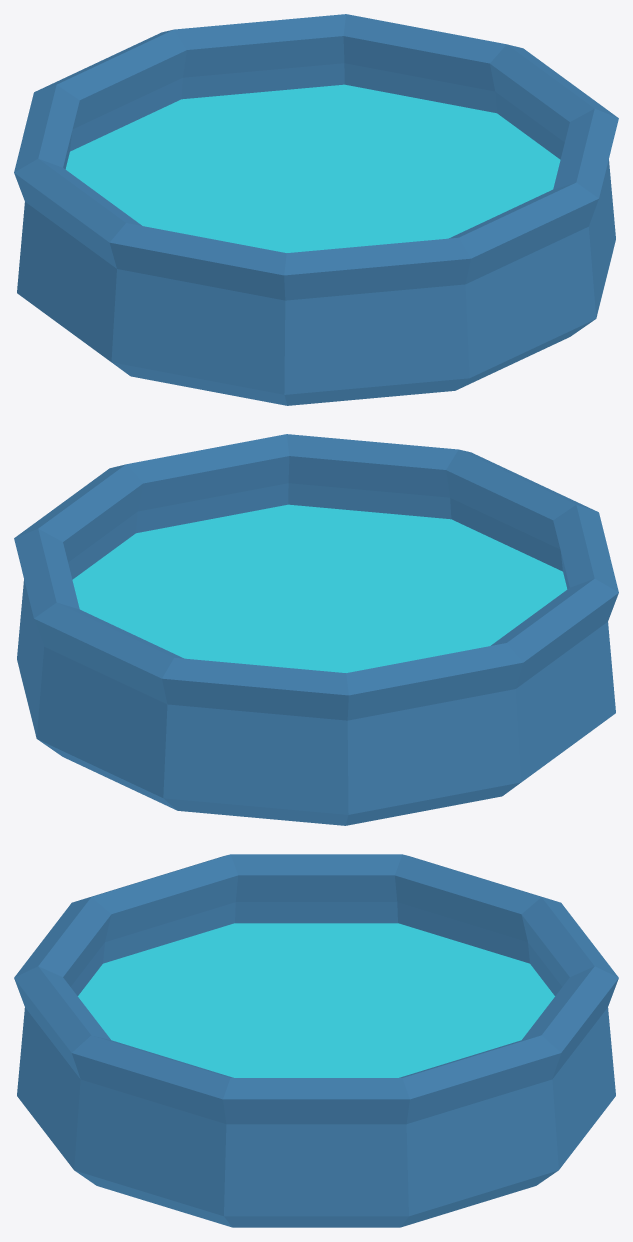
The model's file is pool-inflatable.glb.
3 renders of one model, top to bottom at view 1: azimuth 30°, elevation 25°; view 2: azimuth 150°, elevation 25°; view 3: azimuth 270°, elevation 25°, orthographic. The views are drawn at different scales.
Visible parts, largest first — view 1: pool-inflatable; view 2: pool-inflatable; view 3: pool-inflatable.
Boxes of the visible parts, x1,y1,x2,y2 form: pool-inflatable: [14, 14, 618, 405]; pool-inflatable: [14, 434, 618, 825]; pool-inflatable: [14, 854, 618, 1227].
Size of the model in its own units: 2.9 by 0.8469 by 3.04.
1 material, 1 textured.
